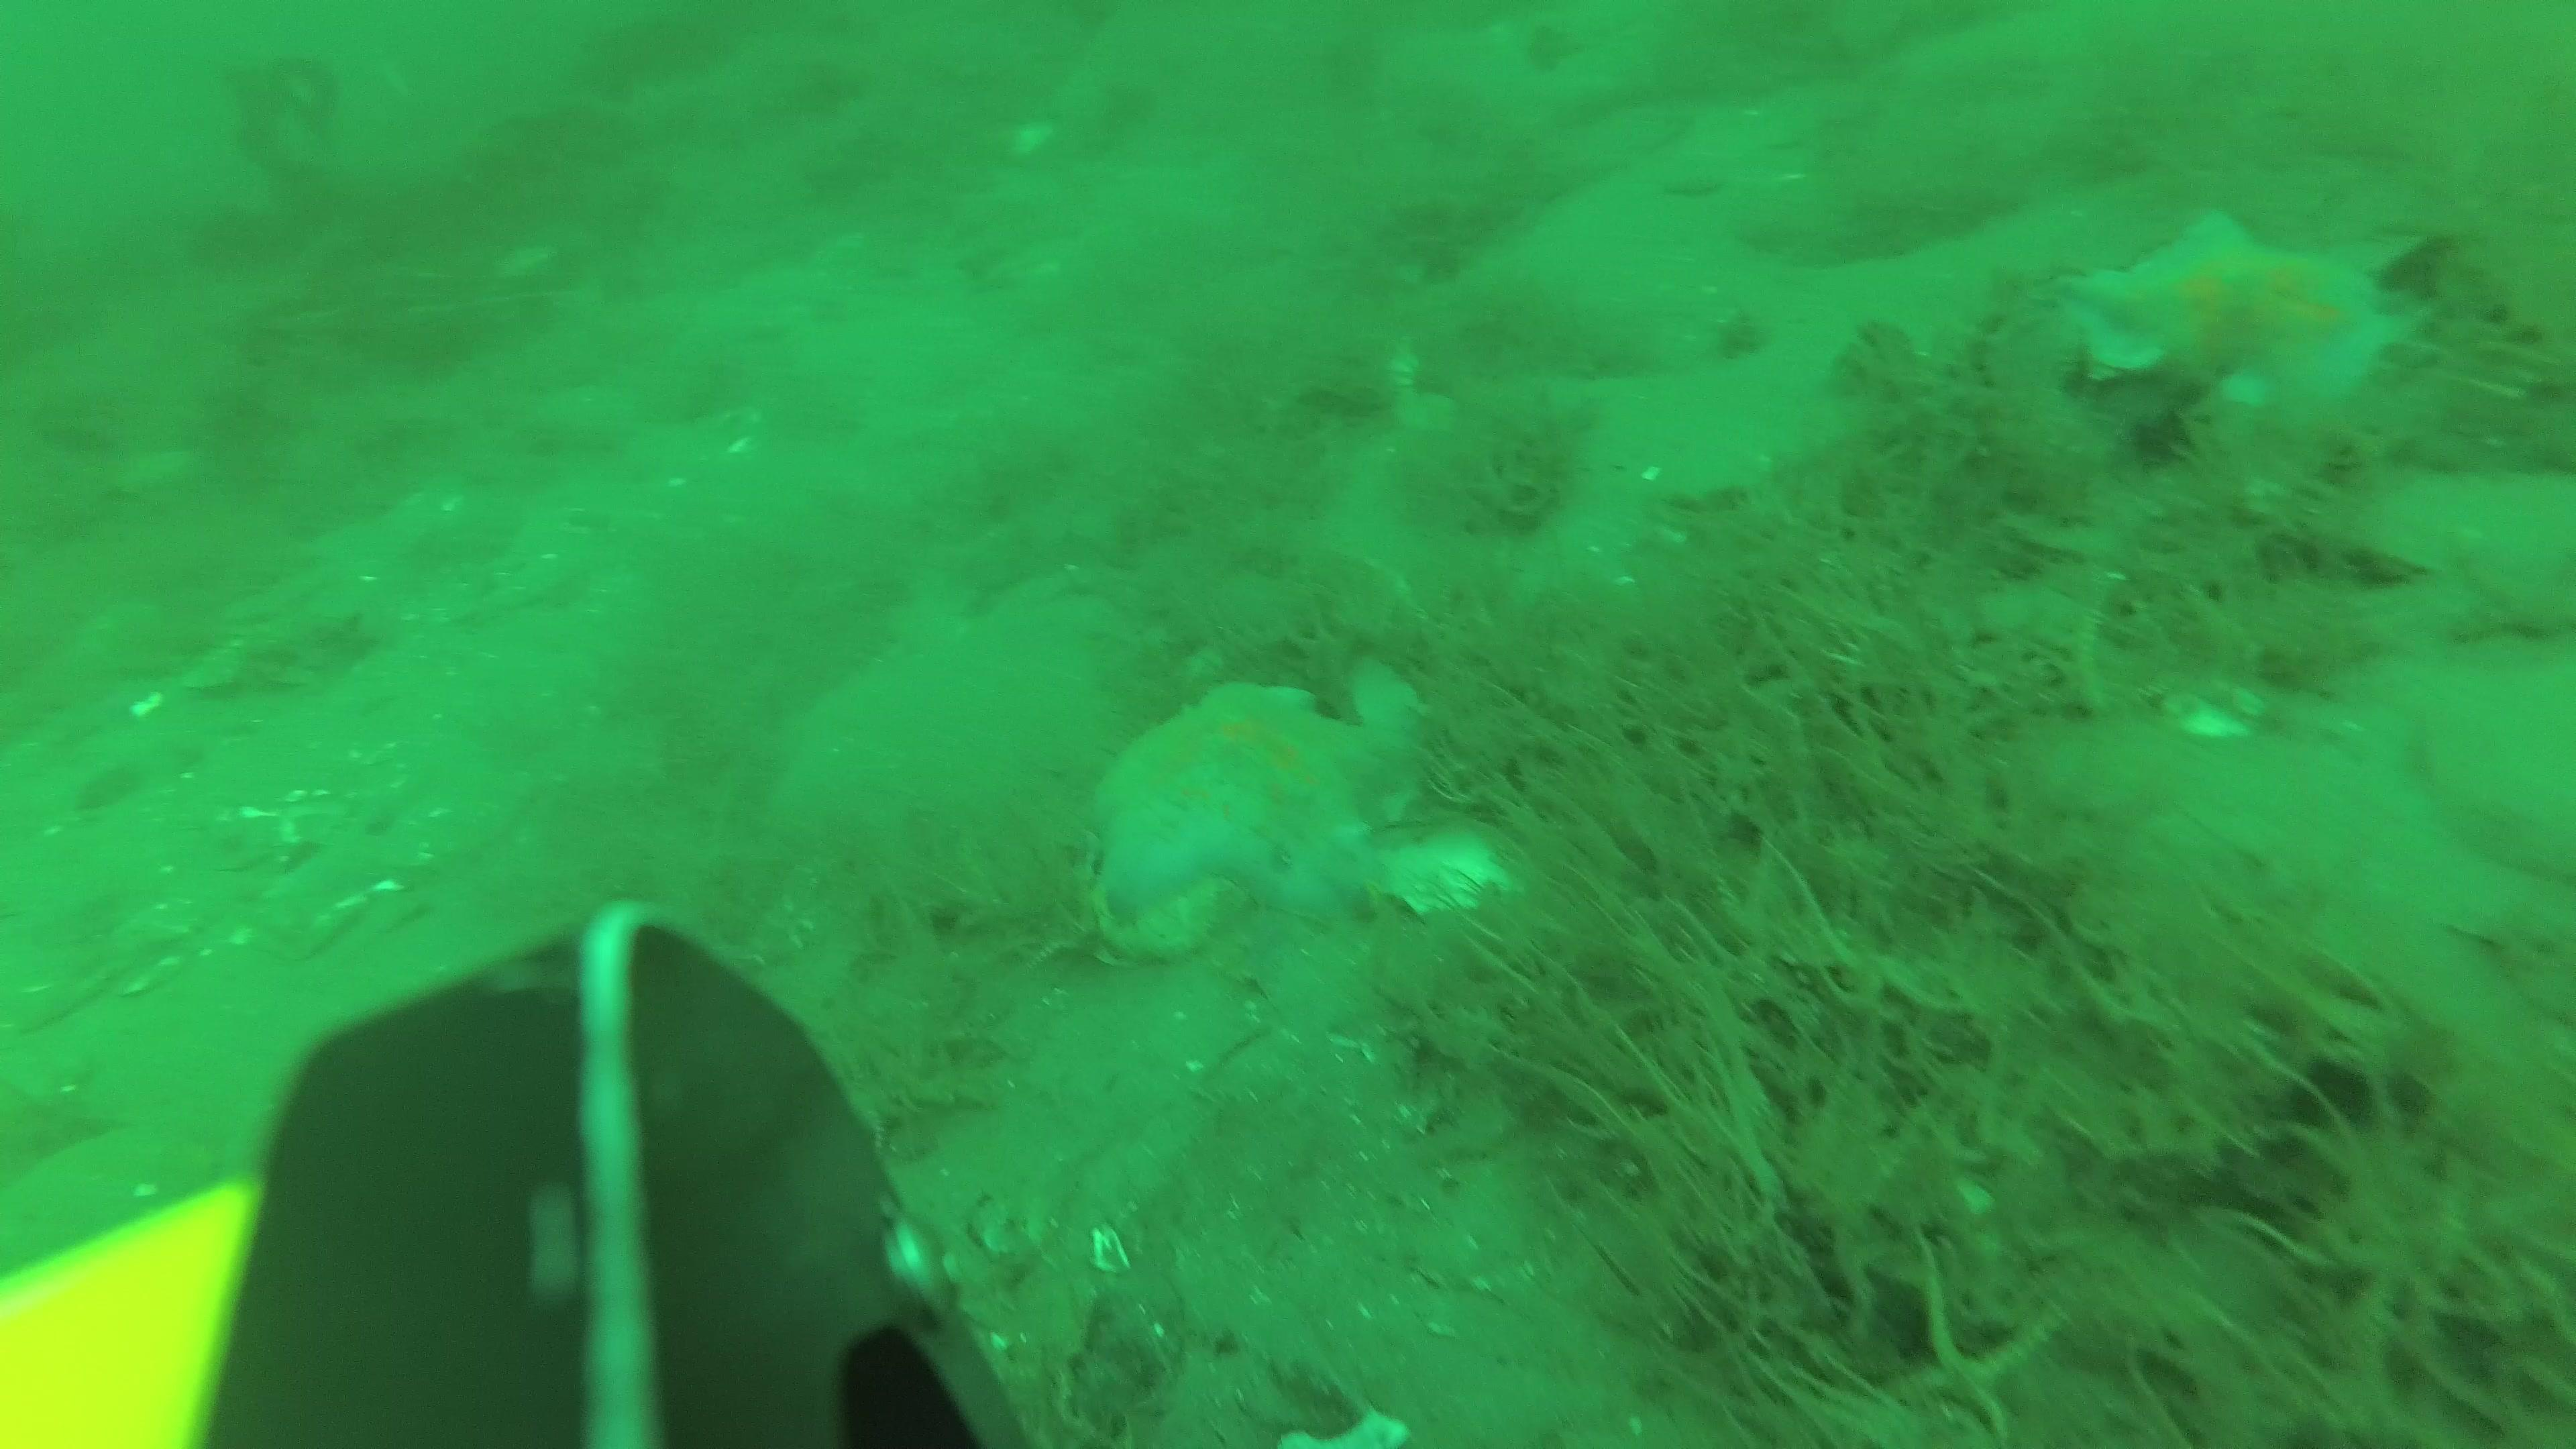scallop: (2424, 665, 2576, 862)
starfish: (1090, 669, 1430, 916), (2070, 205, 2410, 410)
